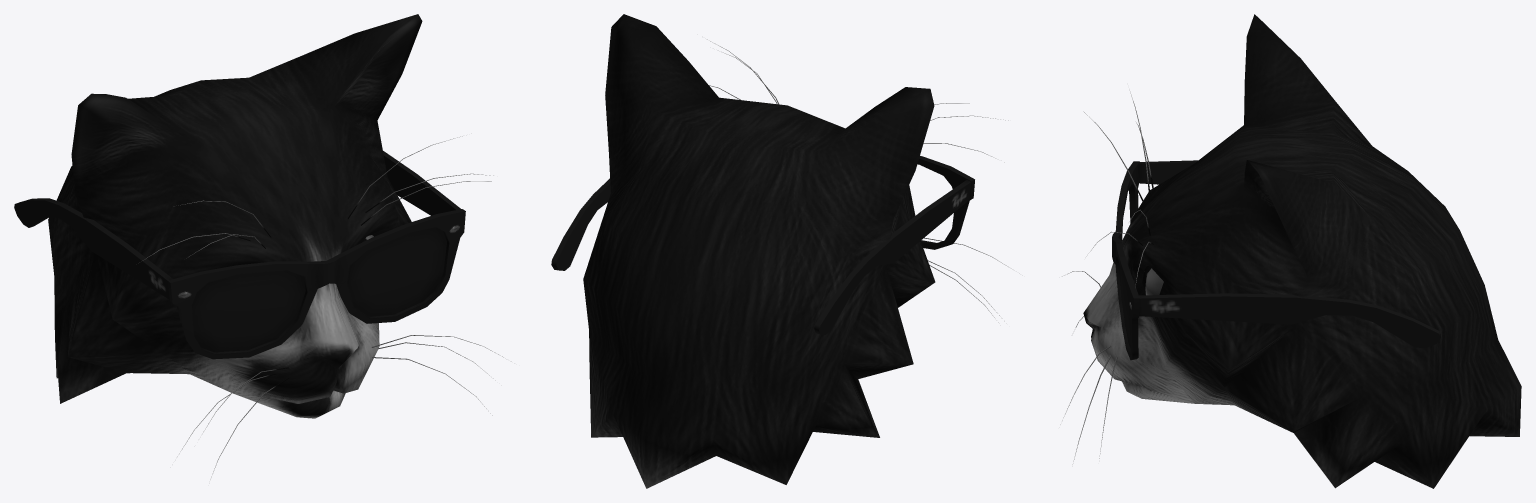
File: KittyA.gltf
3 renders of one model, left to right at view 1: azimuth 30°, elevation 25°; view 2: azimuth 150°, elevation 25°; view 3: azimuth 270°, elevation 25°, orthographic. The views are drawn at different scales.
Visible parts, largest first — view 1: KittyA_MSH:PIV; view 2: KittyA_MSH:PIV; view 3: KittyA_MSH:PIV.
Part boxes in pixels (bbox=[...]): KittyA_MSH:PIV: bbox=[14, 14, 511, 479]; KittyA_MSH:PIV: bbox=[551, 14, 1019, 488]; KittyA_MSH:PIV: bbox=[1060, 14, 1521, 488].
Bounding box in the file's own units: 8.87 × 8.55 × 10.26.
Materials: 1 (1 with a texture image).
